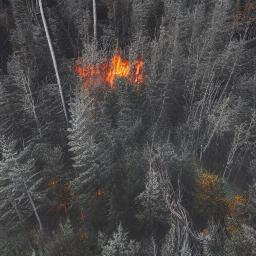Medium fire: (68, 50, 155, 100)
